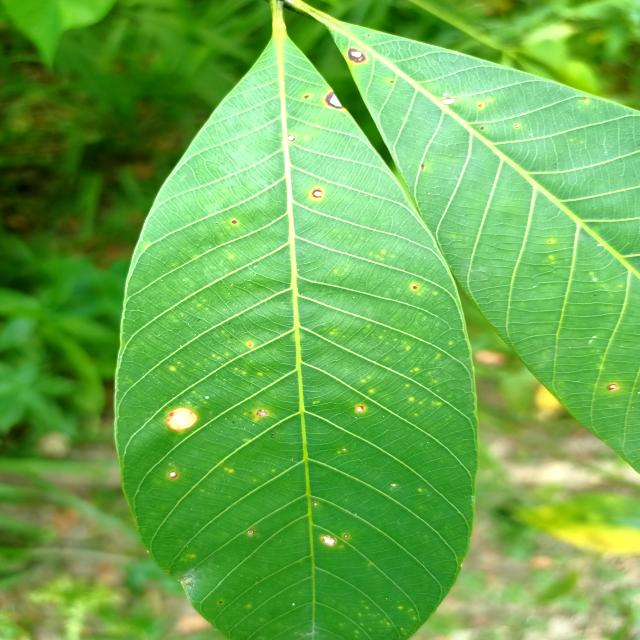Colletotrichum: (166, 408, 197, 430), (325, 92, 342, 109), (348, 48, 366, 63), (322, 535, 336, 545), (312, 189, 323, 198), (257, 409, 268, 417), (169, 471, 178, 479), (356, 405, 364, 412), (288, 135, 296, 141), (303, 95, 309, 99), (248, 530, 254, 534), (344, 534, 349, 538), (232, 220, 237, 224), (276, 422, 279, 426), (390, 81, 394, 83)
